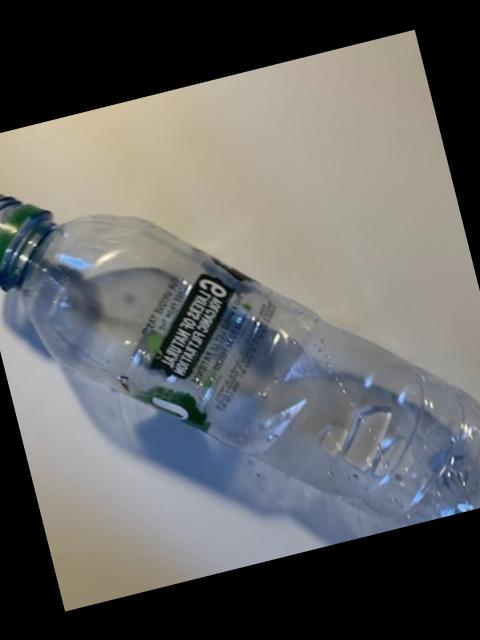plastic: (0, 196, 480, 527)
